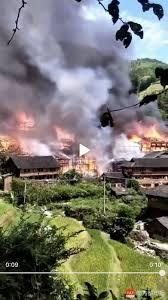fire: (126, 118, 167, 152)
